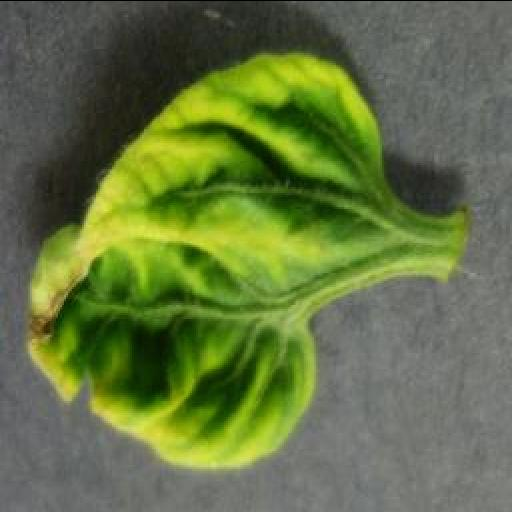disease_tomato: (26, 52, 386, 468)
